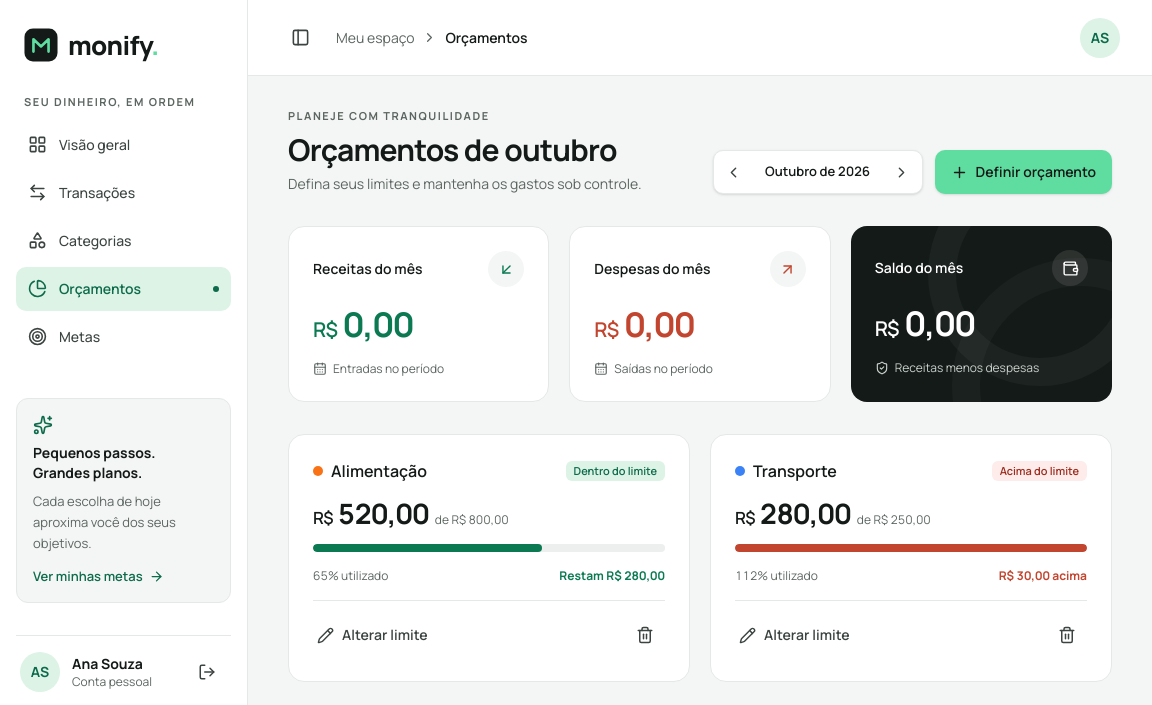
Scenario: Orçamentos › deve tratar meses passados como histórico, sem edição
The width and height of the screenshot is (1152, 705).
Expected: the button "Definir orçamento" is shown, [935,150,1112,194]
Click the button named "Mês anterior".
click(734, 172)  # box [714,151,754,193]
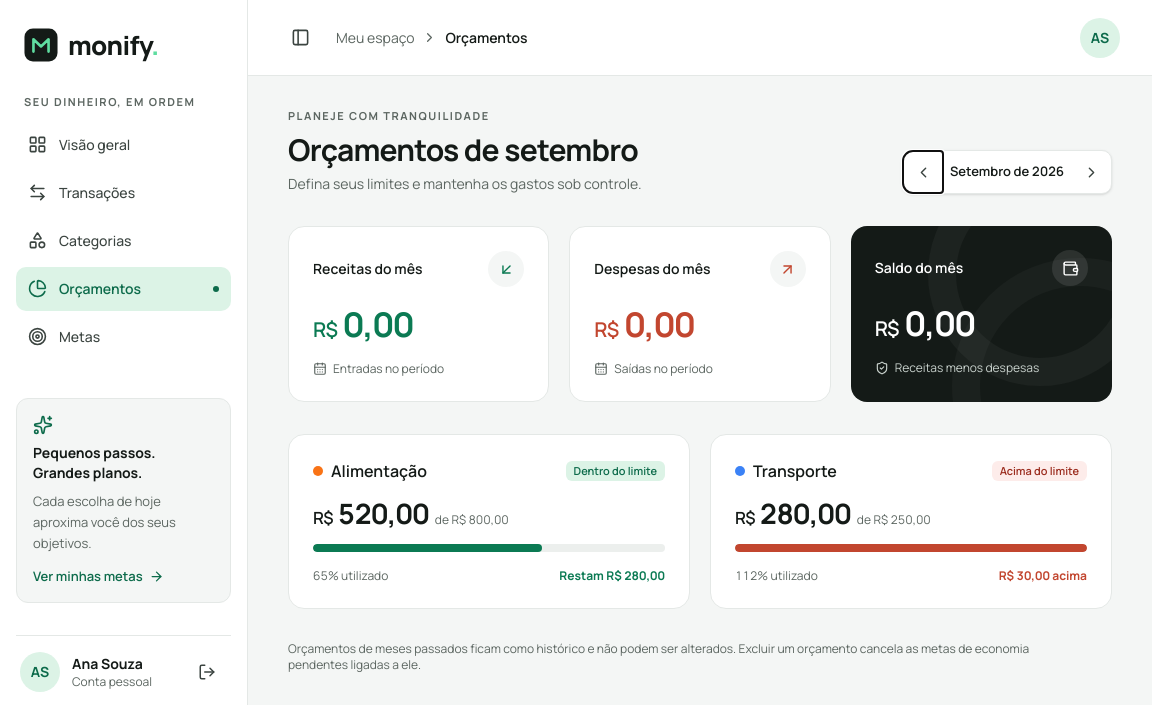
Result: the heading "Orçamentos de setembro" is shown at [288,130,642,168]
Result: the button "Definir orçamento" is gone
Result: the button "Alterar limite" is gone
